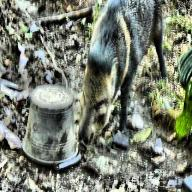boar: (77, 0, 192, 164)
